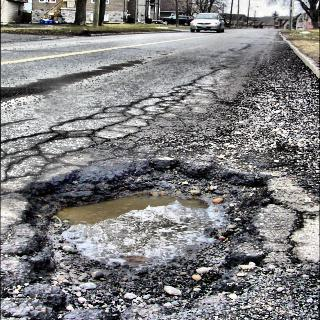alligator-crack: (2, 64, 242, 191)
pothole: (31, 161, 296, 318)
